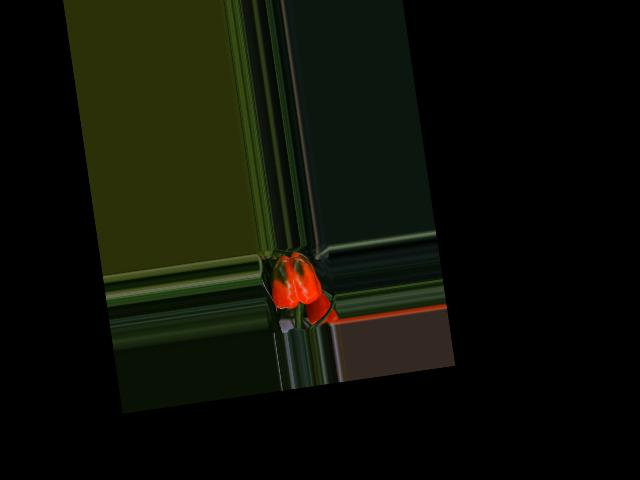bell_pepper: (259, 244, 326, 318)
